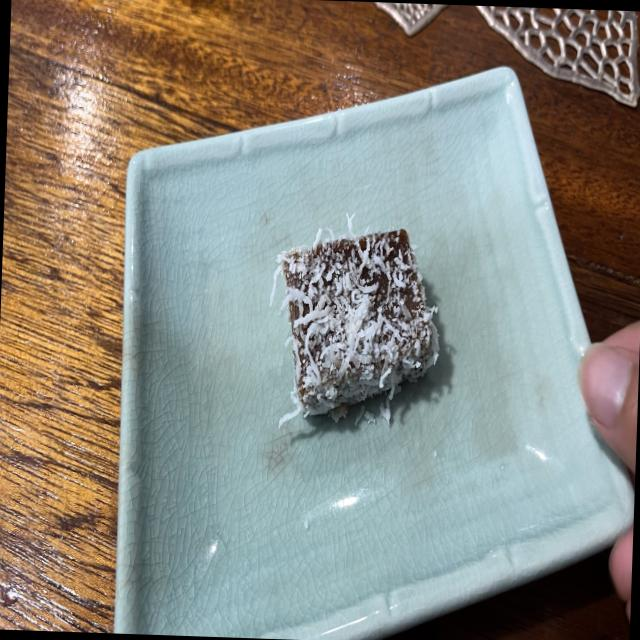kaswi: (271, 214, 438, 425)
